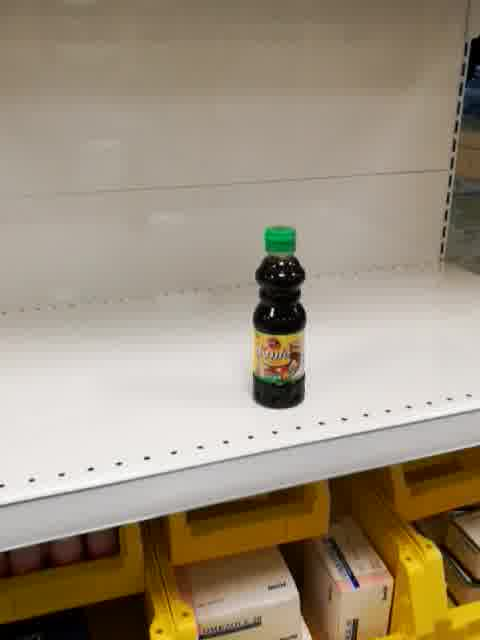cookingoil: (249, 224, 310, 412)
